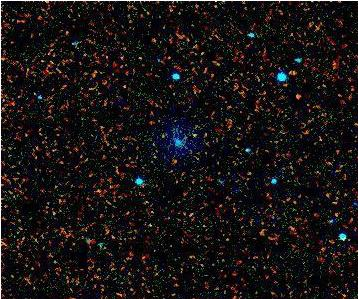star: (281, 56, 311, 86)
